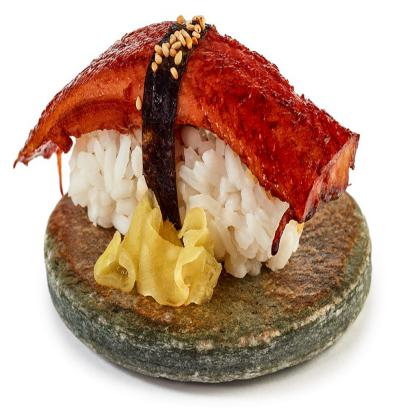unagi: (4, 7, 367, 270)
